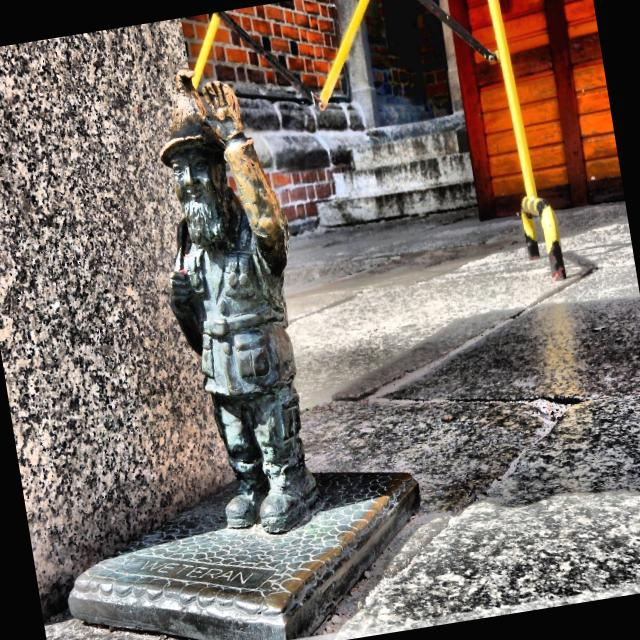Weteran: (161, 69, 319, 533)
